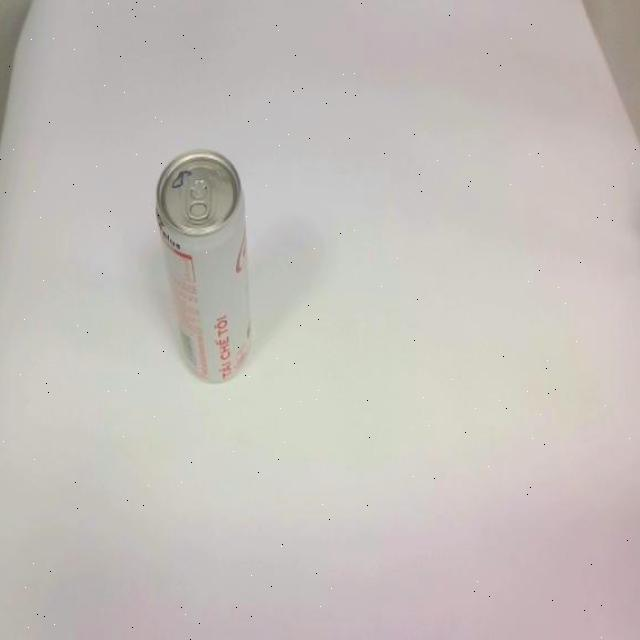debris: (154, 148, 253, 385)
